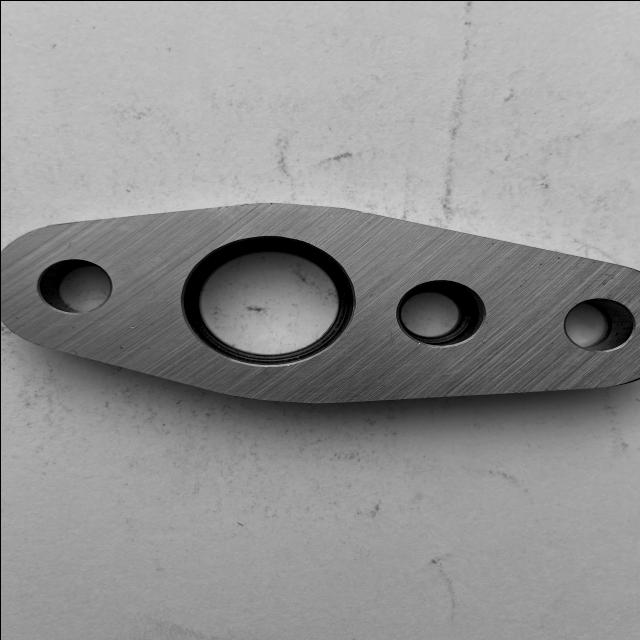chap: (126, 324, 138, 330), (414, 341, 422, 346)
